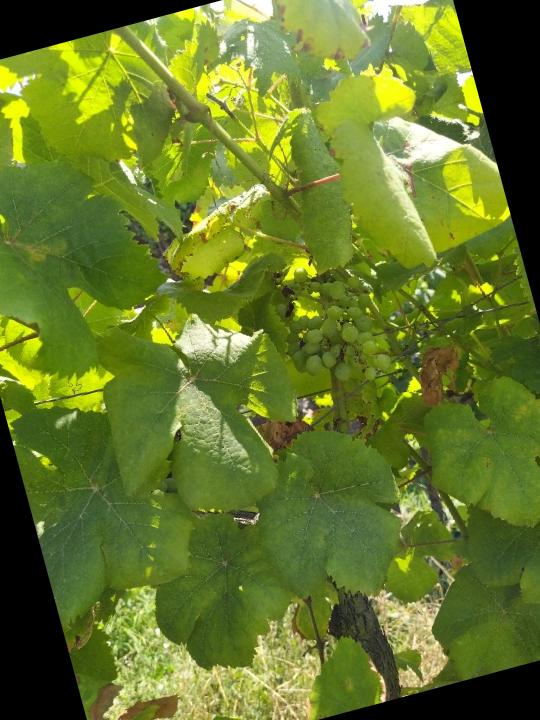grape: (264, 247, 398, 402)
